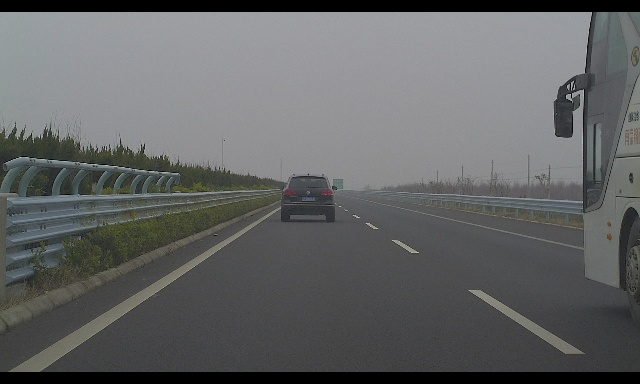bus: (554, 12, 640, 327)
car: (278, 173, 337, 222)
